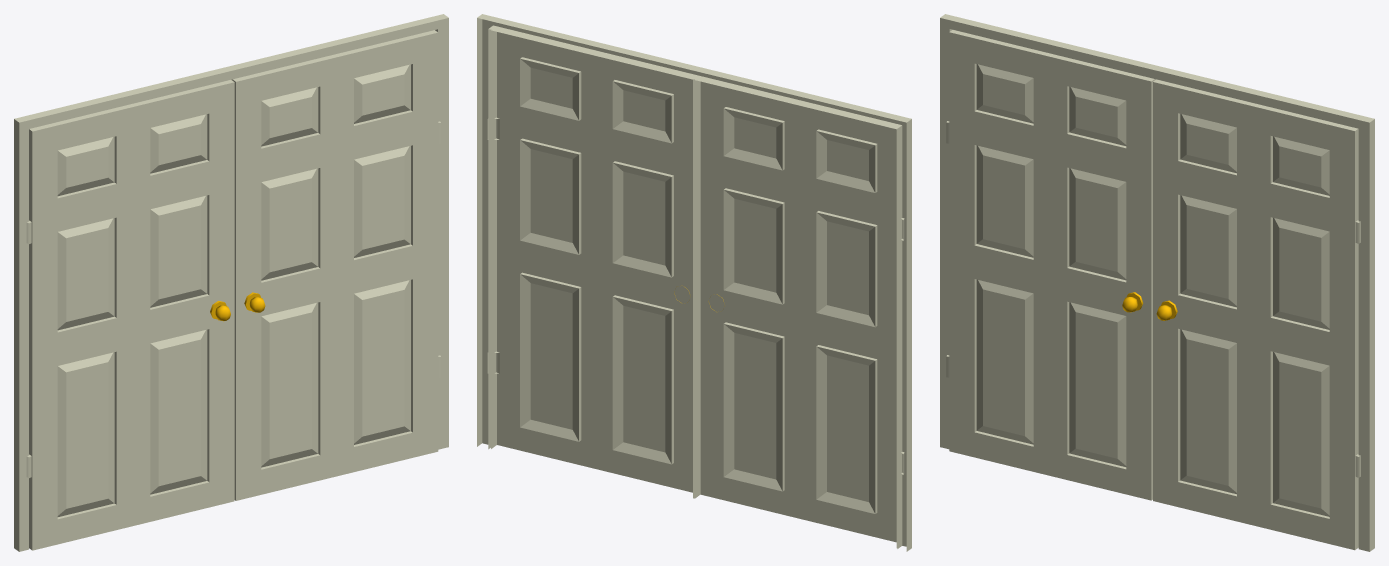
The model's file is wardrobe_doors.fbx.
3 views of the same model, side by side, from view 1: azimuth 30°, elevation 25°; view 2: azimuth 150°, elevation 25°; view 3: azimuth 330°, elevation 25° (orthographic).
Parts seen in each view (by area): view 1: Box024; view 2: Box024; view 3: Box024.
Boxes of the visible parts, <box> form: Box024: <box>14,14,448,551</box>; Box024: <box>477,14,911,551</box>; Box024: <box>940,14,1374,551</box>.
Bounding box in the file's own units: 561 × 535 × 36.68.
